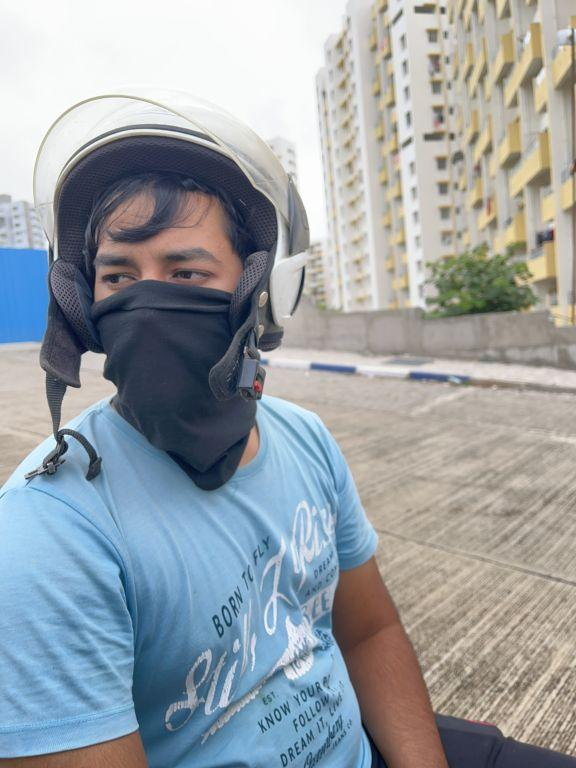helmet: (20, 74, 313, 498)
